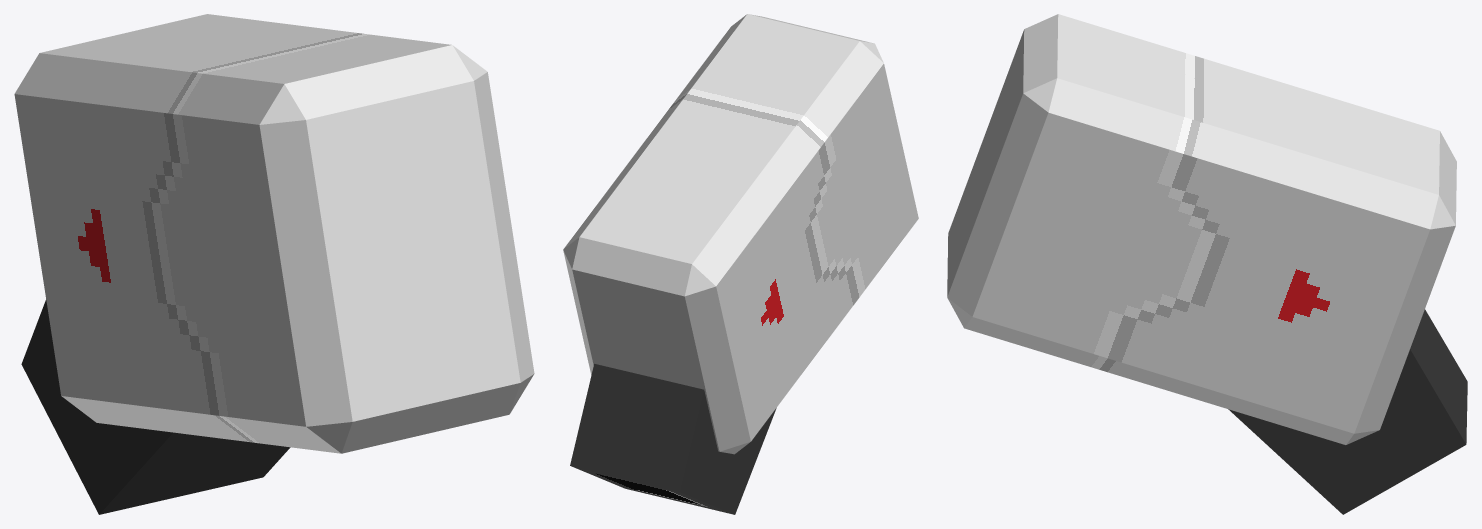
The model's file is booster.fbx.
3 renders of one model, left to right at view 1: azimuth 30°, elevation 25°; view 2: azimuth 150°, elevation 25°; view 3: azimuth 270°, elevation 25°, orthographic. The views are drawn at different scales.
Visible parts, largest first — view 1: Cube, 立方体.001; view 2: Cube, 立方体.001; view 3: Cube, 立方体.001.
Boxes of the visible parts, <box> form: Cube: <box>14,14,534,453</box>; 立方体.001: <box>21,299,290,514</box>; Cube: <box>563,14,918,454</box>; 立方体.001: <box>570,363,776,514</box>; Cube: <box>947,14,1456,444</box>; 立方体.001: <box>1228,309,1467,514</box>.
Size of the model in its own units: 14.28 by 33.44 by 35.91.
1 material, 1 textured.
